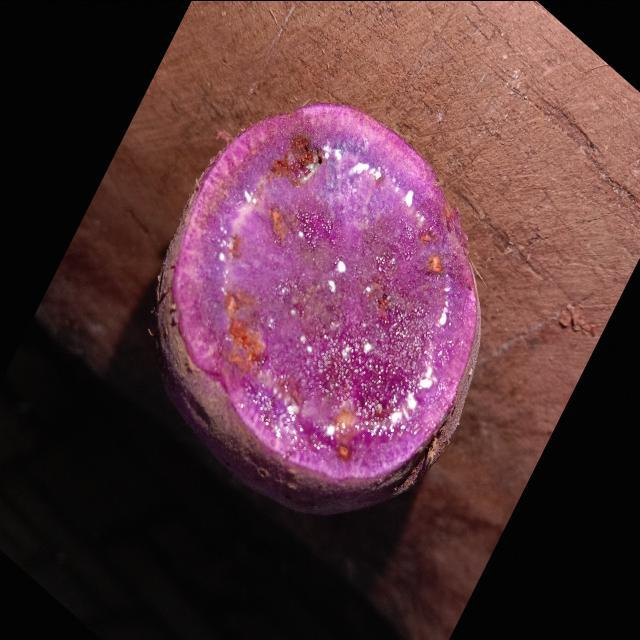Sick Sweet Potato_Tuber Rot: (155, 103, 480, 512)
